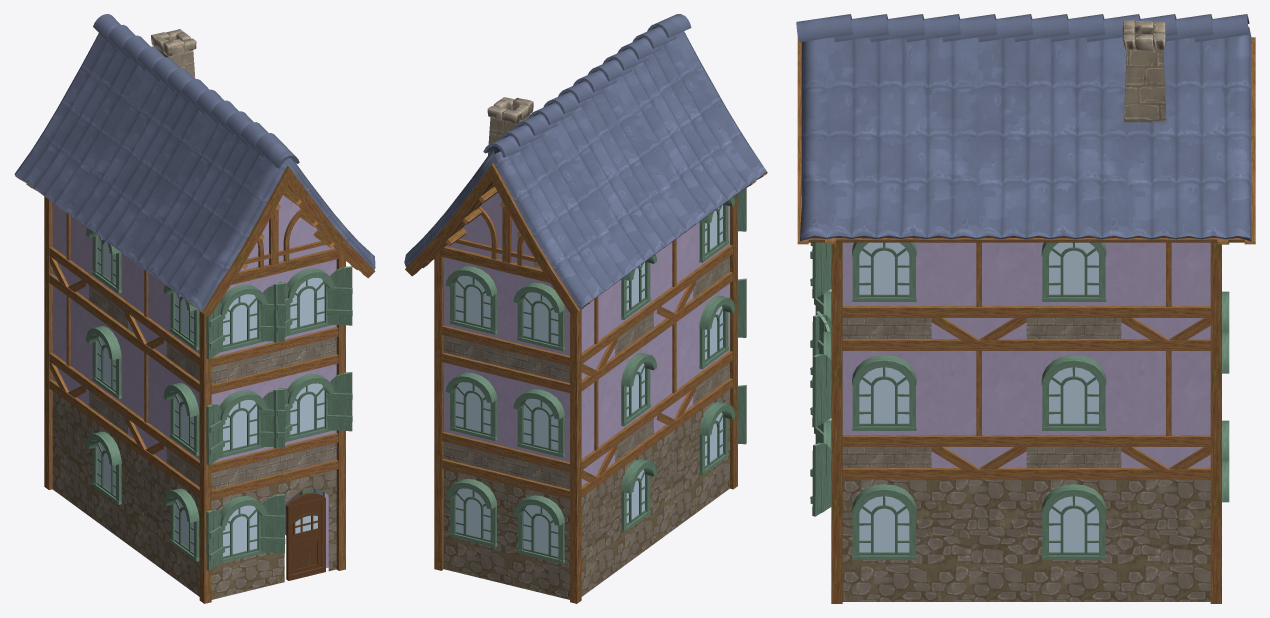
File: house_lavender.glb
3 views of the same model, side by side, from view 1: azimuth 30°, elevation 25°; view 2: azimuth 150°, elevation 25°; view 3: azimuth 270°, elevation 25° (orthographic). The views are drawn at different scales.
Parts seen in each view (by area): view 1: Roof_RoundTiles_4x8, Wall_UnevenBrick_Window_Wide_Round, Window_Wide_Round1, Wall_UnevenBrick_Door_Round, Wall_Plaster_Window_Wide_Round, Prop_Chimney; view 2: Wall_UnevenBrick_Window_Wide_Round, Roof_RoundTiles_4x8, Window_Wide_Round1, Wall_UnevenBrick_Door_Round, Wall_Plaster_Window_Wide_Round, Prop_Chimney; view 3: Roof_RoundTiles_4x8, Wall_UnevenBrick_Window_Wide_Round, Wall_UnevenBrick_Door_Round, Window_Wide_Round1, Wall_Plaster_Window_Wide_Round, Prop_Chimney.
Boxes of the visible parts, left/top/right/bottom form: Roof_RoundTiles_4x8: left=14, top=14, right=375, bottom=311; Wall_UnevenBrick_Window_Wide_Round: left=15, top=166, right=375, bottom=599; Window_Wide_Round1: left=86, top=228, right=352, bottom=570; Wall_UnevenBrick_Door_Round: left=44, top=189, right=345, bottom=603; Wall_Plaster_Window_Wide_Round: left=89, top=285, right=336, bottom=489; Prop_Chimney: left=151, top=29, right=196, bottom=78; Wall_UnevenBrick_Window_Wide_Round: left=405, top=163, right=767, bottom=599; Roof_RoundTiles_4x8: left=404, top=14, right=767, bottom=310; Window_Wide_Round1: left=445, top=188, right=746, bottom=563; Wall_UnevenBrick_Door_Round: left=434, top=186, right=737, bottom=603; Wall_Plaster_Window_Wide_Round: left=444, top=256, right=729, bottom=489; Prop_Chimney: left=487, top=97, right=533, bottom=155; Roof_RoundTiles_4x8: left=796, top=14, right=1251, bottom=241; Wall_UnevenBrick_Window_Wide_Round: left=797, top=37, right=1255, bottom=601; Wall_UnevenBrick_Door_Round: left=831, top=242, right=1221, bottom=603; Window_Wide_Round1: left=810, top=242, right=1229, bottom=559; Wall_Plaster_Window_Wide_Round: left=842, top=318, right=1121, bottom=467; Prop_Chimney: left=1122, top=20, right=1166, bottom=122.
Size of the model in its own units: 5.51 by 12.78 by 9.68.
8 materials, 7 textured.
